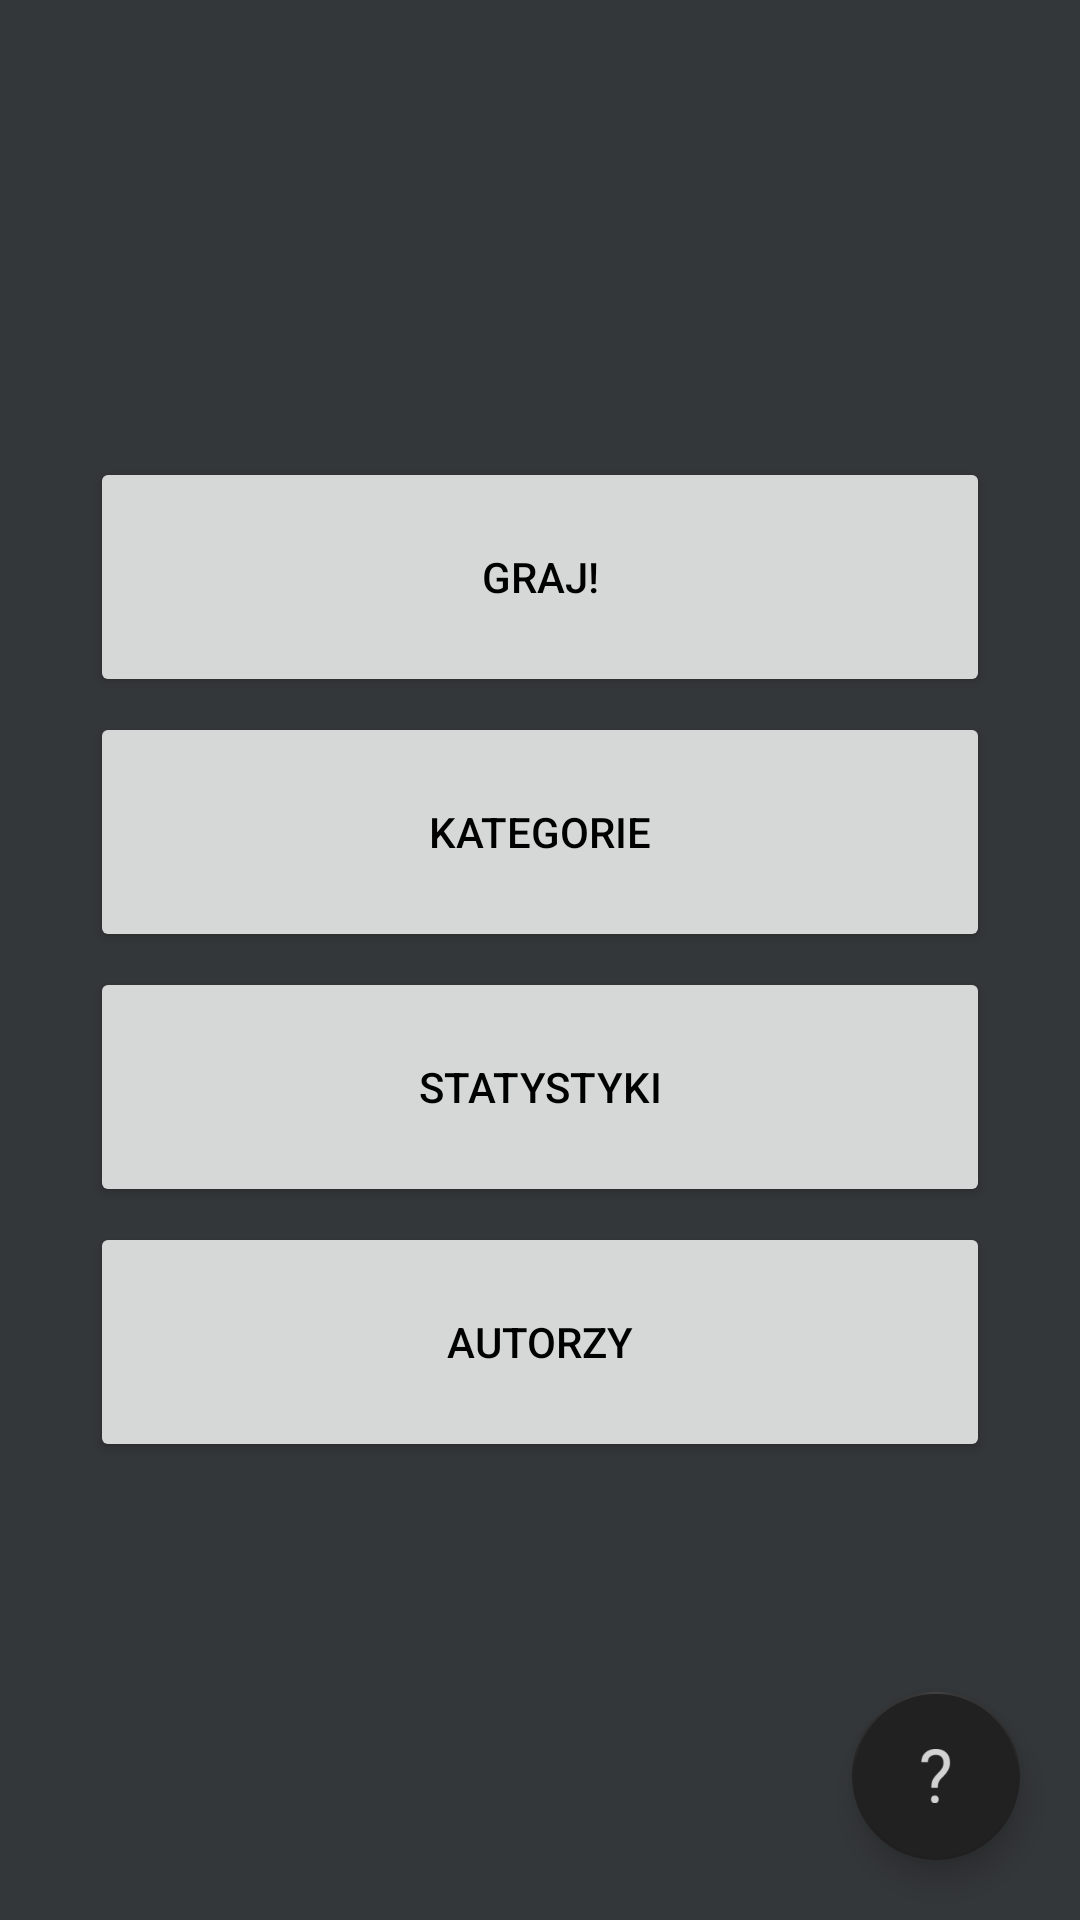

Screen size 1080px x 1920px. Icon name, then its box in pixels as (x1, y1, x2, y2):
help: (852, 1692, 1020, 1860)
